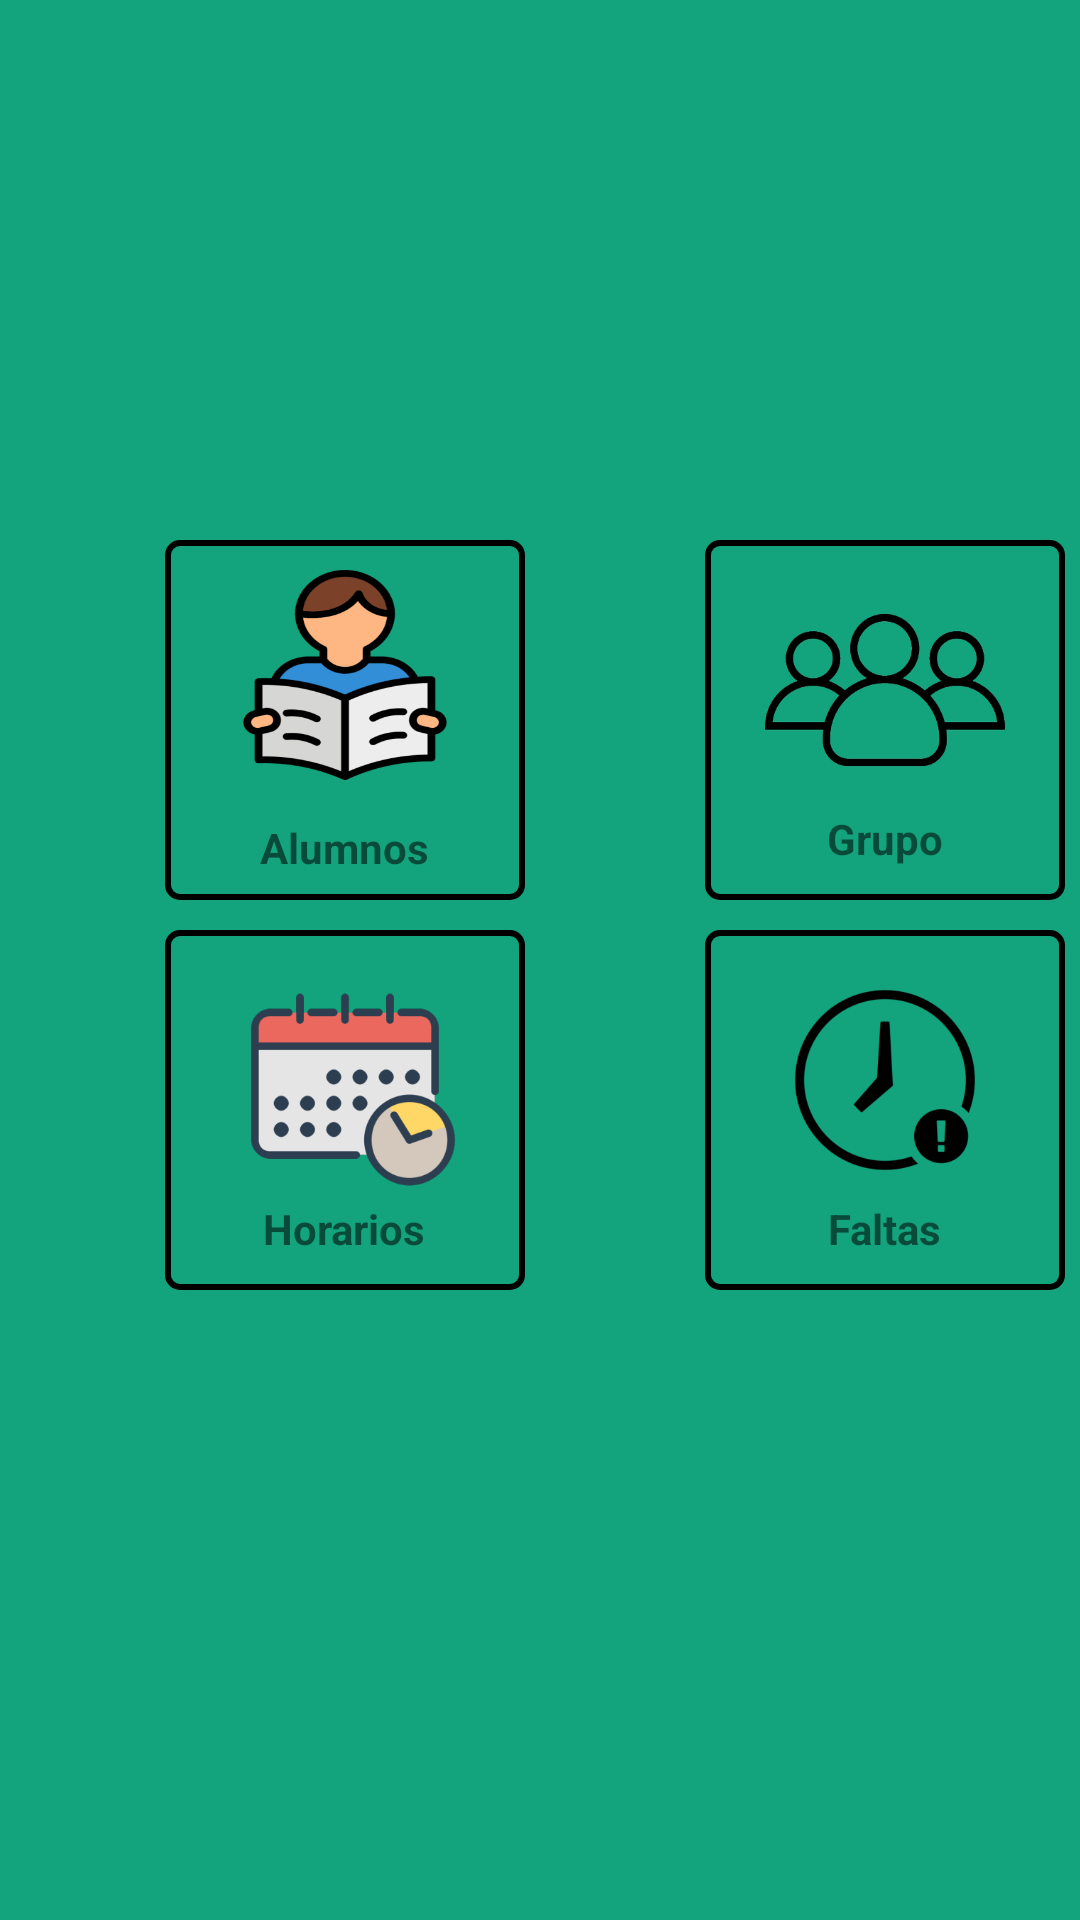

Where to tap for icons on this 1080px x 1920px app screen, as (x,y):
leer: (345,675)
login timeout: (885,1080)
